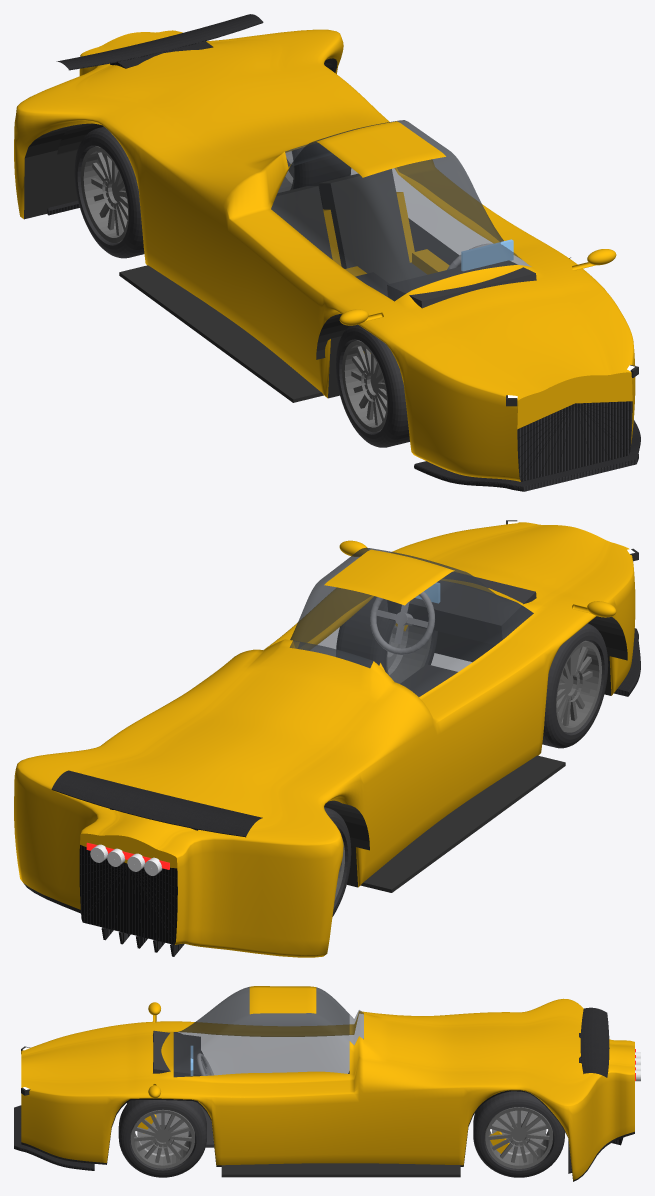
Rendered from mclaren-765lt.glb.
3 renders of one model, top to bottom at view 1: azimuth 30°, elevation 25°; view 2: azimuth 150°, elevation 25°; view 3: azimuth 270°, elevation 25°, orthographic. The views are drawn at different scales.
Visible parts, largest first — view 1: Body_PrimaryPaint, Glass_Windows, Carbon_Exterior, Interior_Seats, WheelWells, Underbody, Tire_FR, Rim_RR, Tire_RR, Rim_FR, Interior_Dashboard, Interior_SeatBolsters (+2 smaller); view 2: Body_PrimaryPaint, Glass_Windows, Carbon_Exterior, WheelWells, Interior_Dashboard, Rim_FR, Tire_FR, Tire_FL, Underbody, Interior_SteeringWheel, Rim_FL, Chrome_Trim (+2 smaller); view 3: Body_PrimaryPaint, Glass_Windows, WheelWells, Tire_FL, Tire_RL, Carbon_Exterior, Rim_RL, Rim_FL, Interior_Dashboard, Underbody, BrakeDisc_RL, BrakeDisc_FL.
Part boxes in pixels (x1,y1,x2,y2): Body_PrimaryPaint: (14,29,635,481); Glass_Windows: (271,120,531,301); Carbon_Exterior: (47,14,640,491); Interior_Seats: (271,169,426,283); WheelWells: (57,123,570,402); Underbody: (24,58,341,398); Tire_FR: (336,324,409,447); Rim_RR: (80,146,128,242); Tire_RR: (74,126,144,258); Rim_FR: (342,340,387,432); Interior_Dashboard: (387,260,536,308); Interior_SeatBolsters: (323,192,449,276); Body_PrimaryPaint: (14,522,635,957); Glass_Windows: (290,547,533,696); Carbon_Exterior: (51,628,640,956); WheelWells: (324,616,627,892); Interior_Dashboard: (387,572,536,645); Rim_FR: (556,640,601,732); Tire_FR: (542,623,608,748); Tire_FL: (336,596,437,672); Underbody: (24,631,611,913); Interior_SteeringWheel: (370,591,434,654); Rim_FL: (386,622,431,683); Chrome_Trim: (90,844,162,875); Body_PrimaryPaint: (21,986,634,1180); Glass_Windows: (173,987,363,1077); WheelWells: (221,1163,460,1177); Tire_FL: (118,1100,206,1177); Tire_RL: (473,1091,564,1177); Carbon_Exterior: (14,1007,622,1173); Rim_RL: (485,1107,552,1168); Rim_FL: (130,1109,194,1168); Interior_Dashboard: (153,1030,200,1077); Underbody: (21,1090,634,1181); BrakeDisc_RL: (492,1110,546,1155); BrakeDisc_FL: (137,1113,188,1156).
Bounding box in the file's own units: 1.94 × 1.19 × 4.7.
16 materials, 2 textured.
